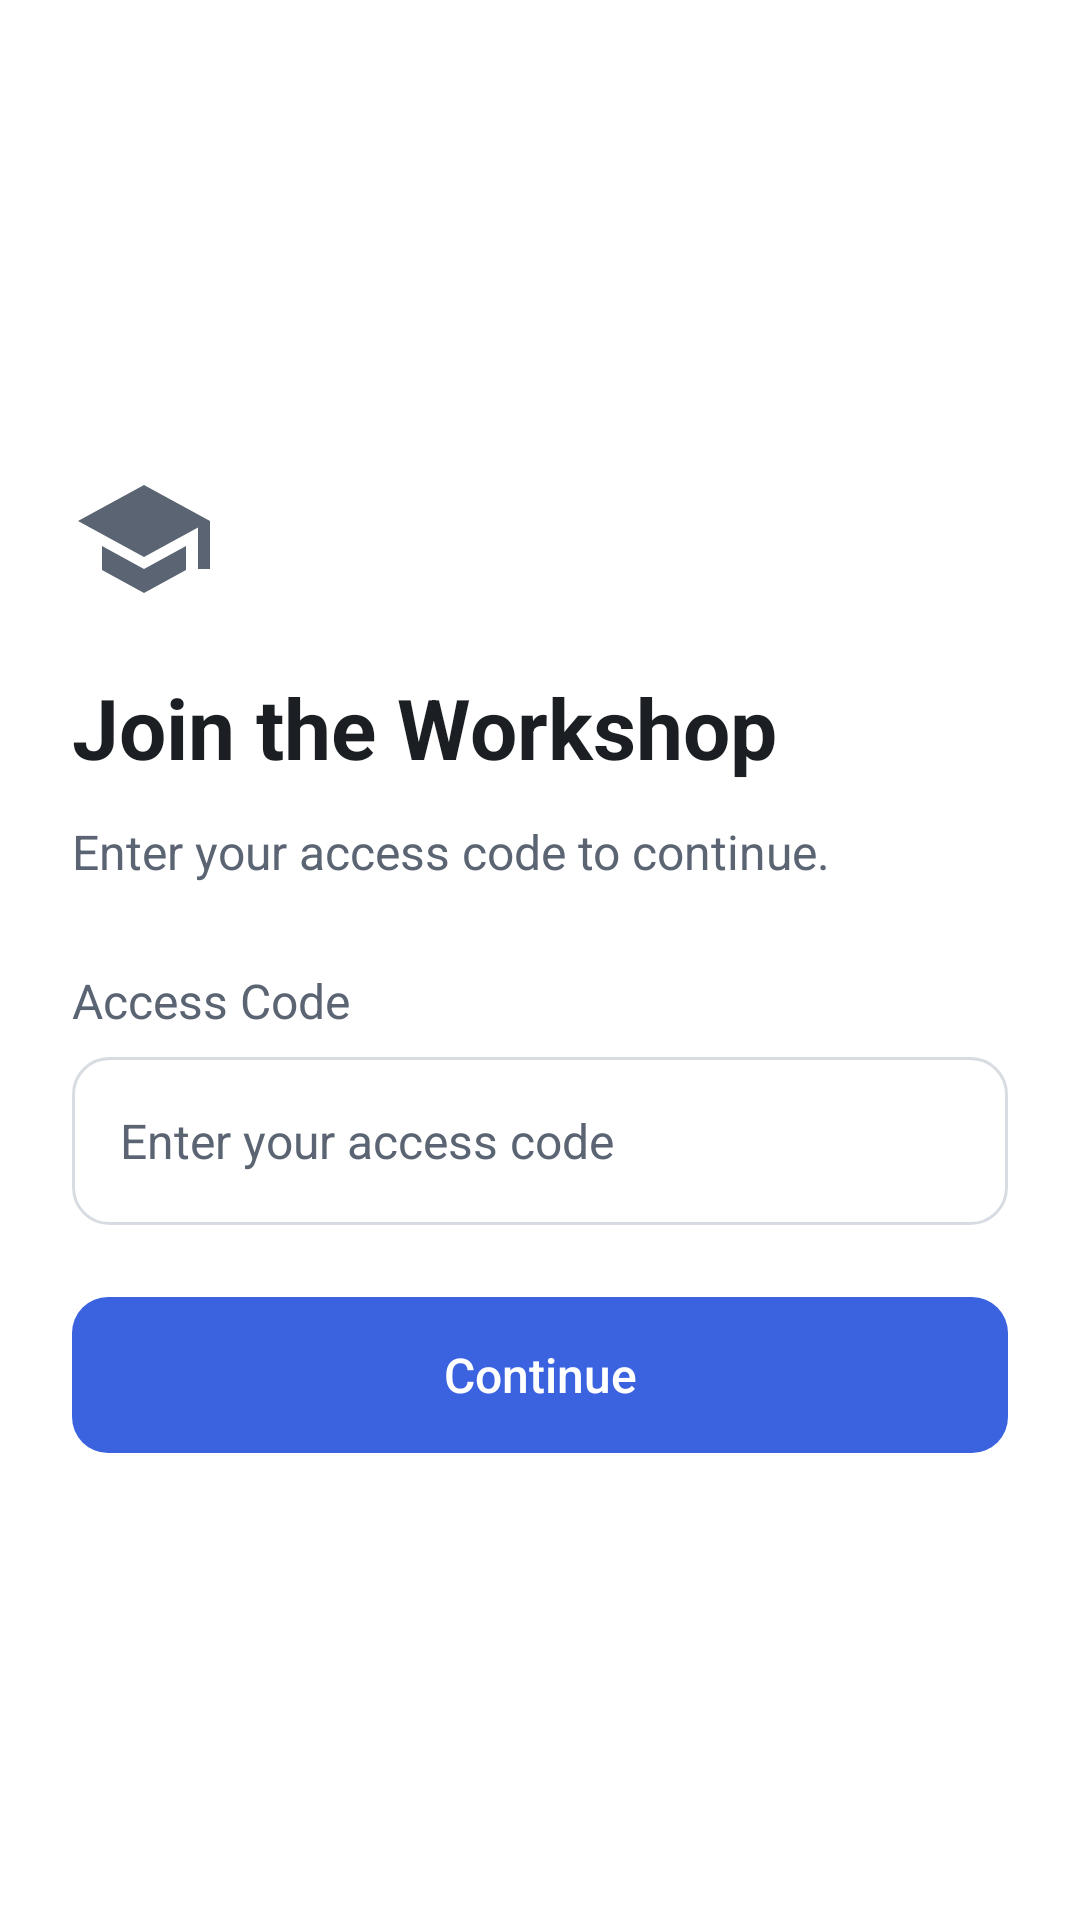

Icon bounding boxes for this 1080 x 1920 phone screenshot, format (x1, y1, x2, y2):
workshop school: (78, 485, 210, 593)
